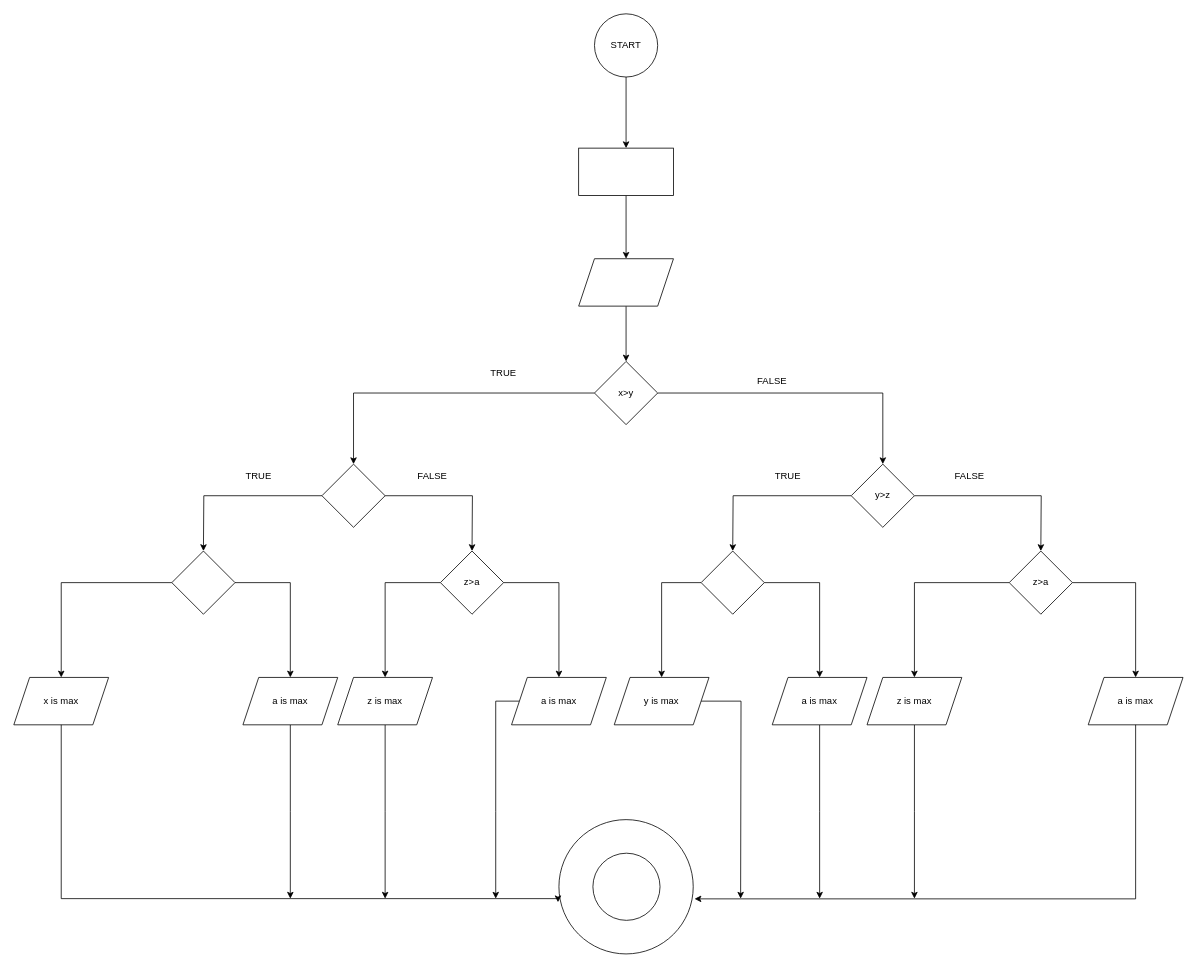
The diagram is 1197 pixels wide and 968 high, and some of its shapes have lost their labels. The centre of each missing label's shape, as x and y in pixels:
"END" belongs at point 626,886.
"INT x, y, z and a" belongs at point 625,171.
"Read x, y, z and a" belongs at point 625,282.
"x>a" belongs at point 203,582.
"x>z" belongs at point 353,495.
"y>a" belongs at point 732,582.
